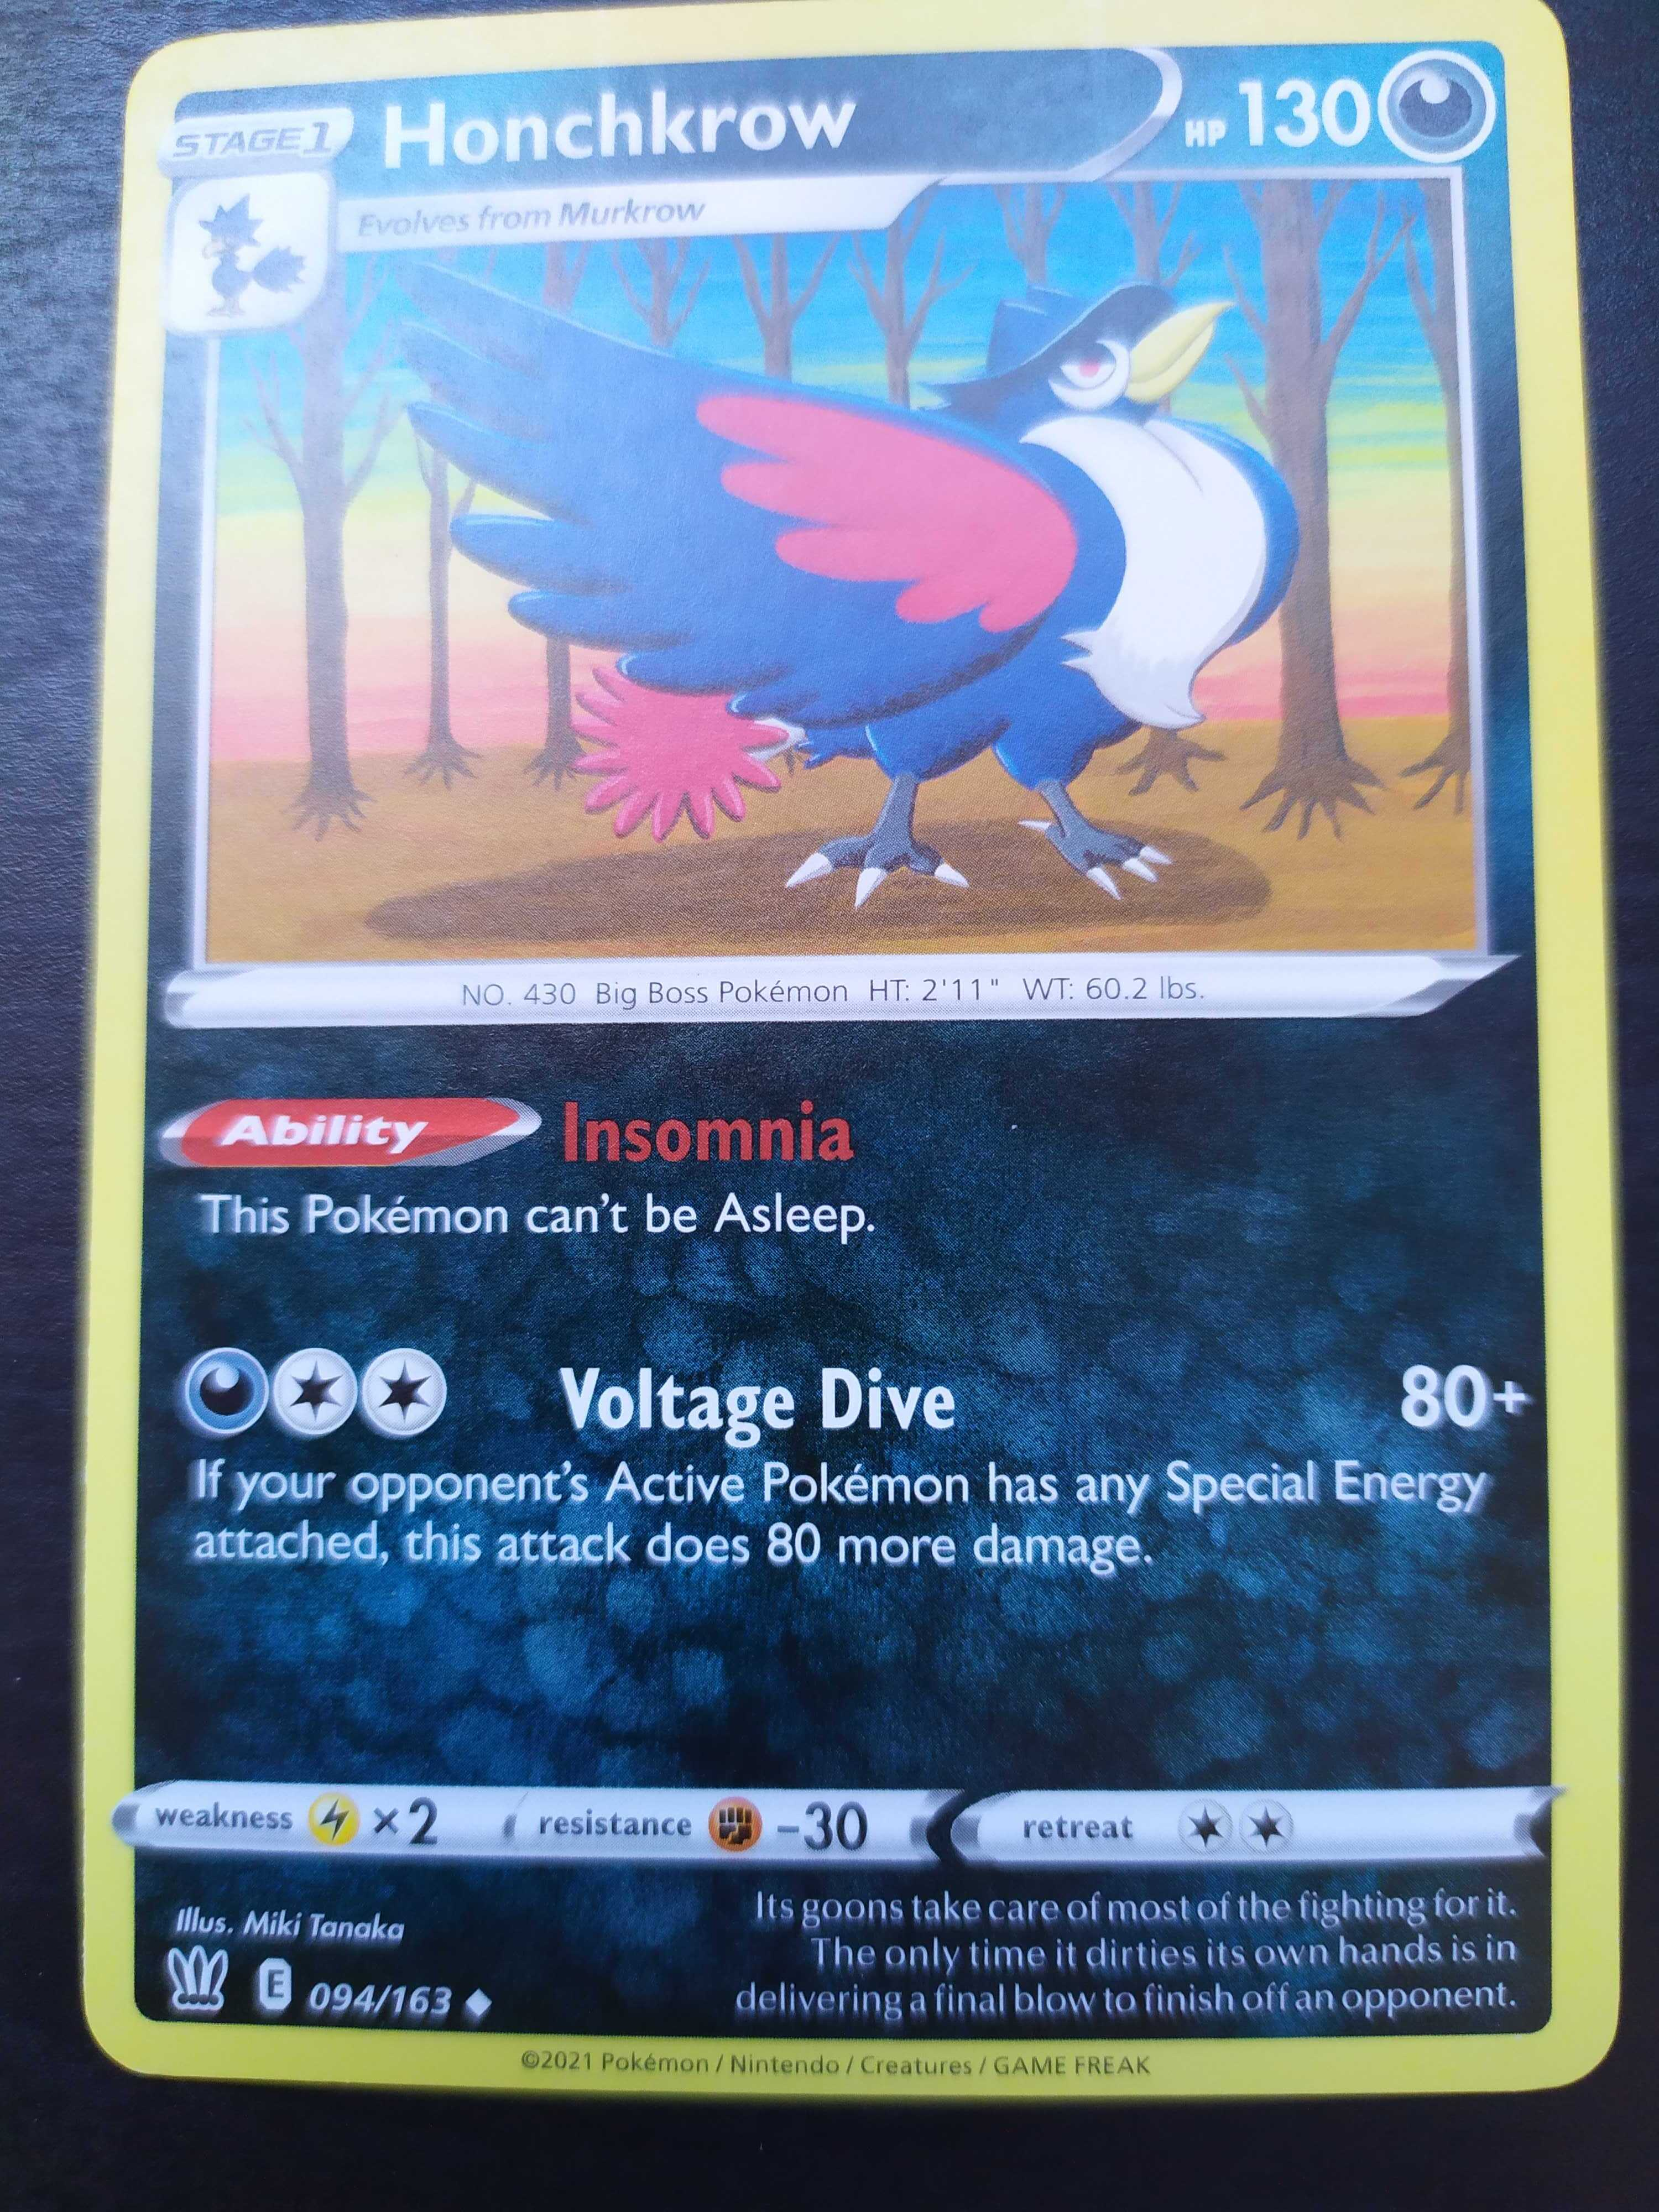collector_number: (305, 1977, 455, 2019)
full_card: (82, 0, 1617, 2097)
name: (385, 91, 864, 167)
set_icon: (166, 1944, 228, 2010)
